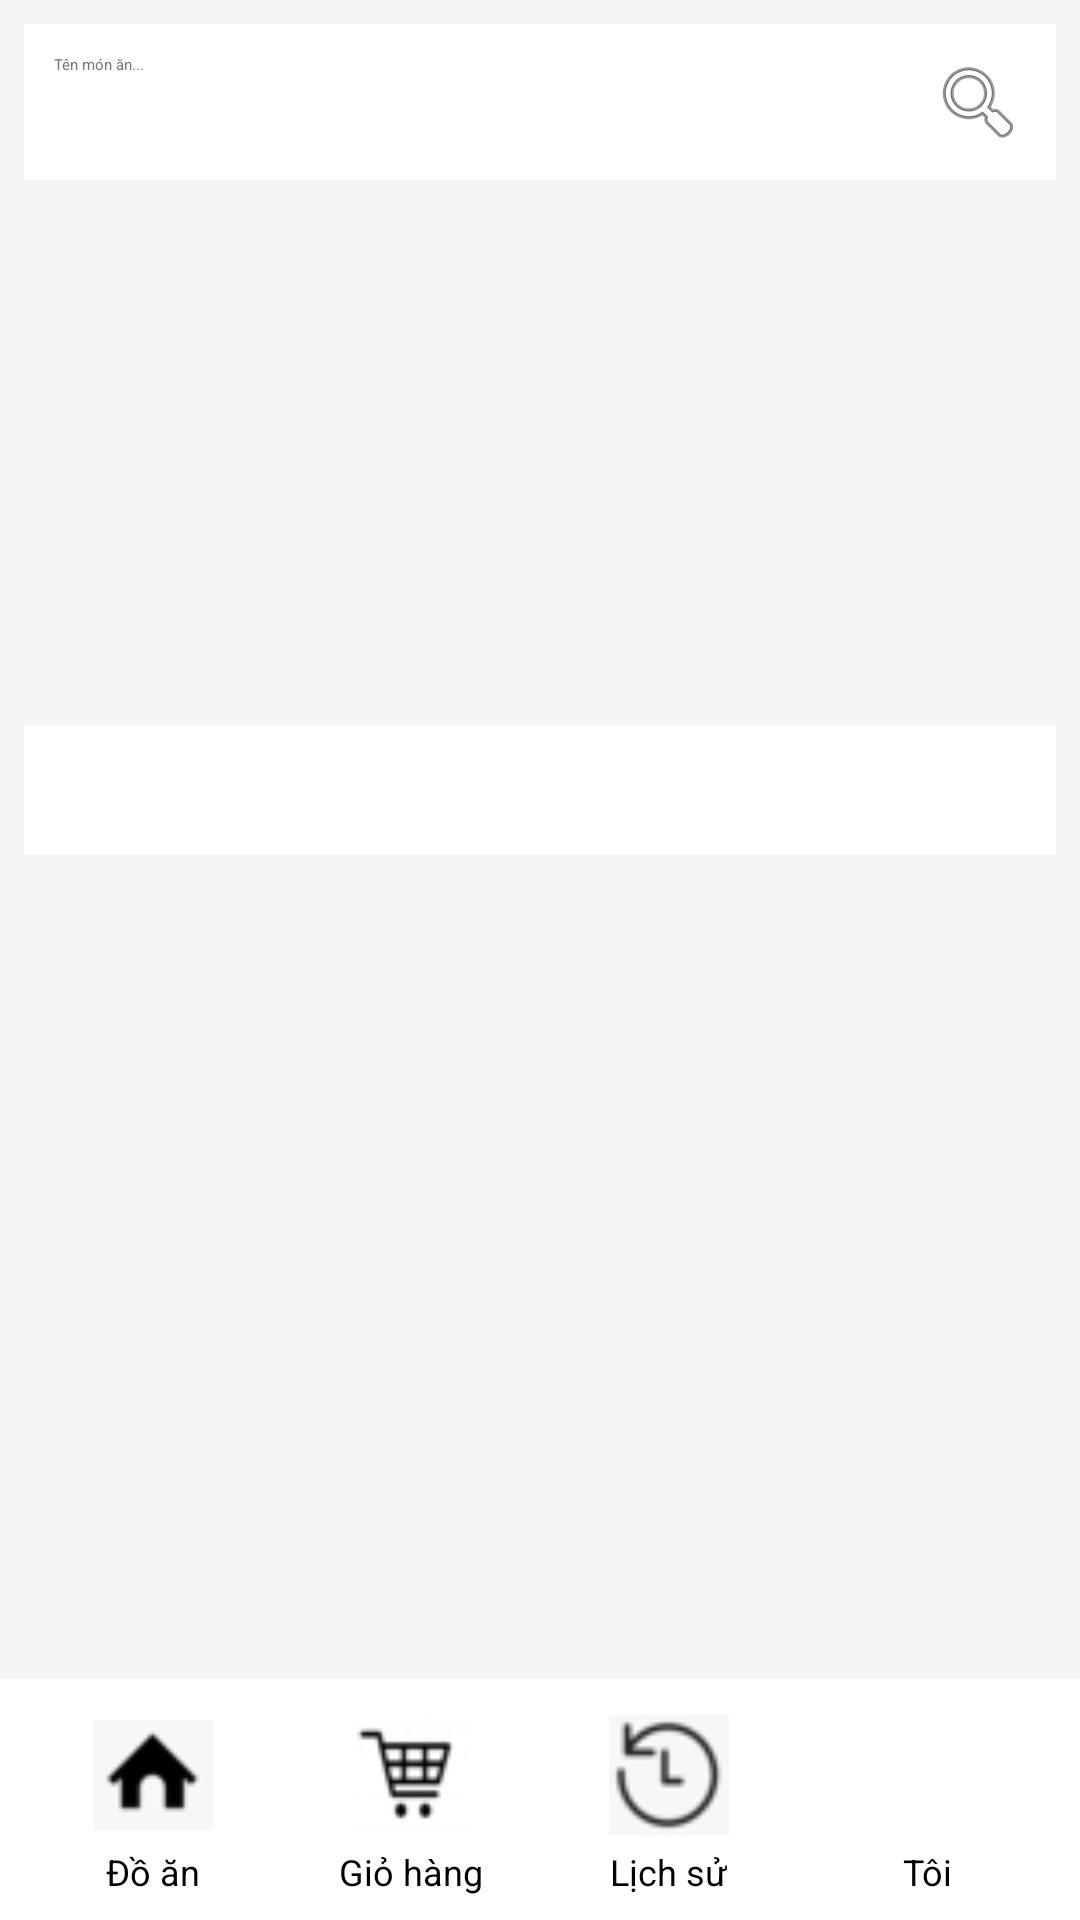

Where to tap for icons on this 1080w x 1920h app screen, as (x=x, y=y):
Home button: (x=152, y=1772)
